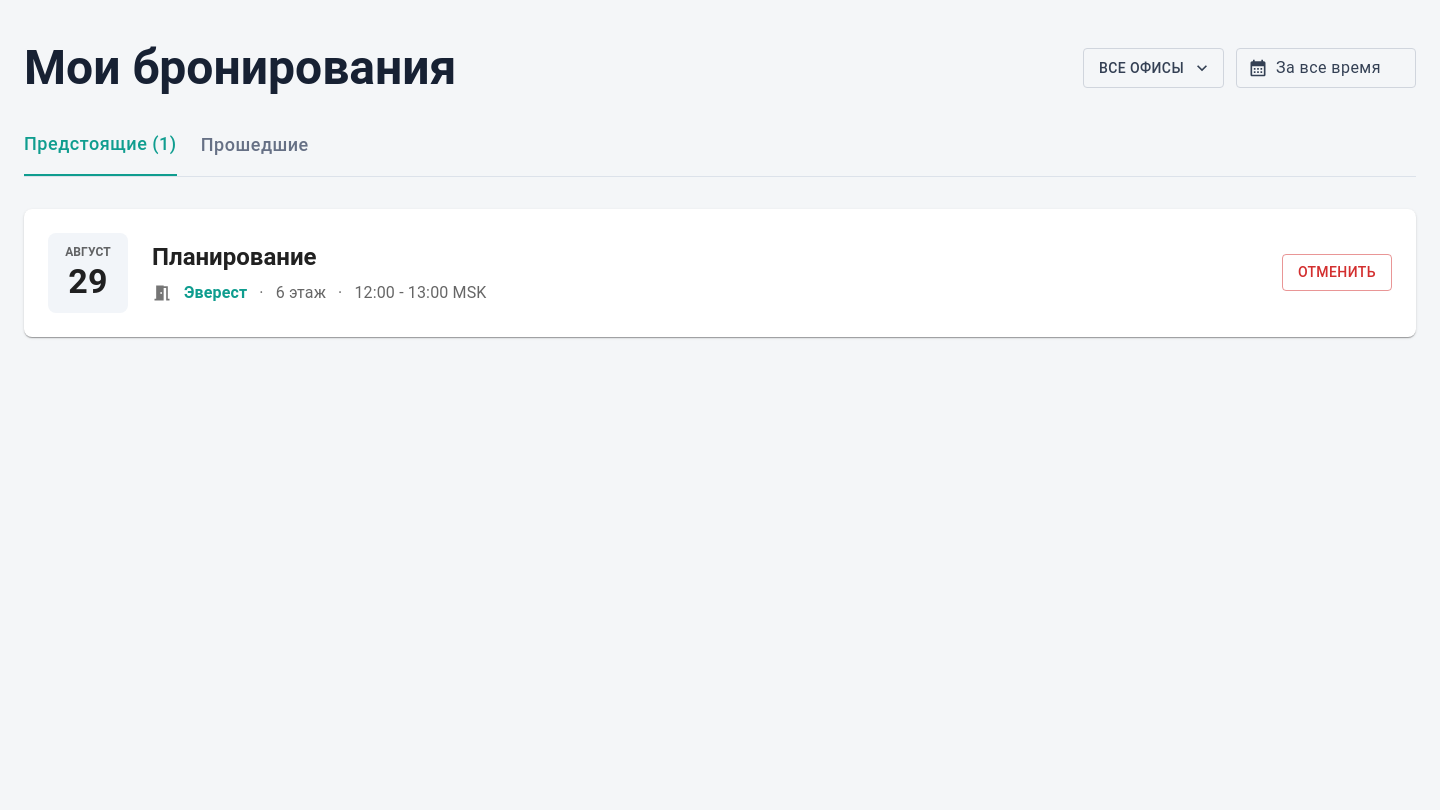
Test: BookingsPage › shows cancel error message
Expected: the heading "Планирование" is shown, [152,242,316,270]
Click the button "Отменить". click: (1337, 273)
box: [1282,254,1392,291]
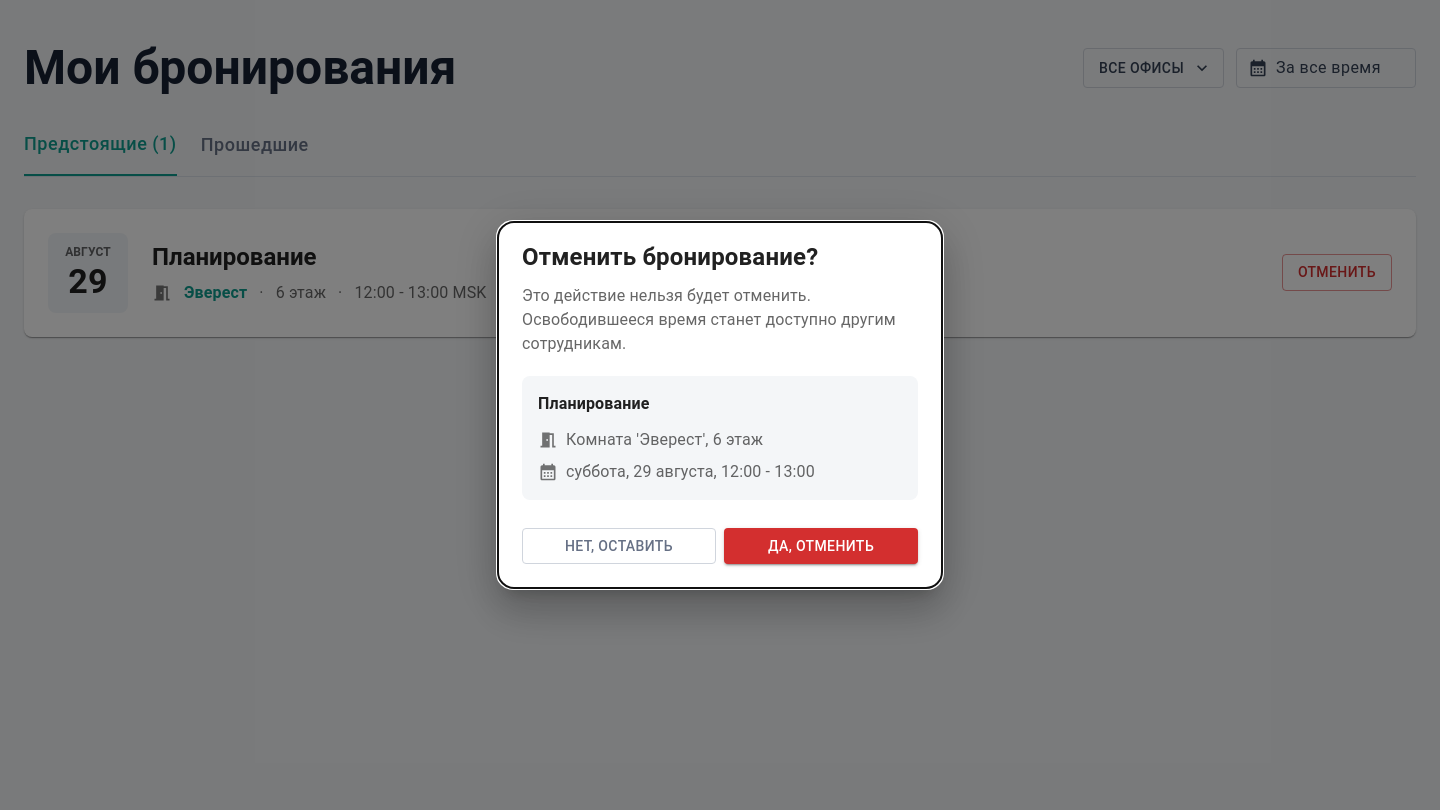
Click the button "Да, отменить". click: (821, 546)
box: [724,528,918,564]
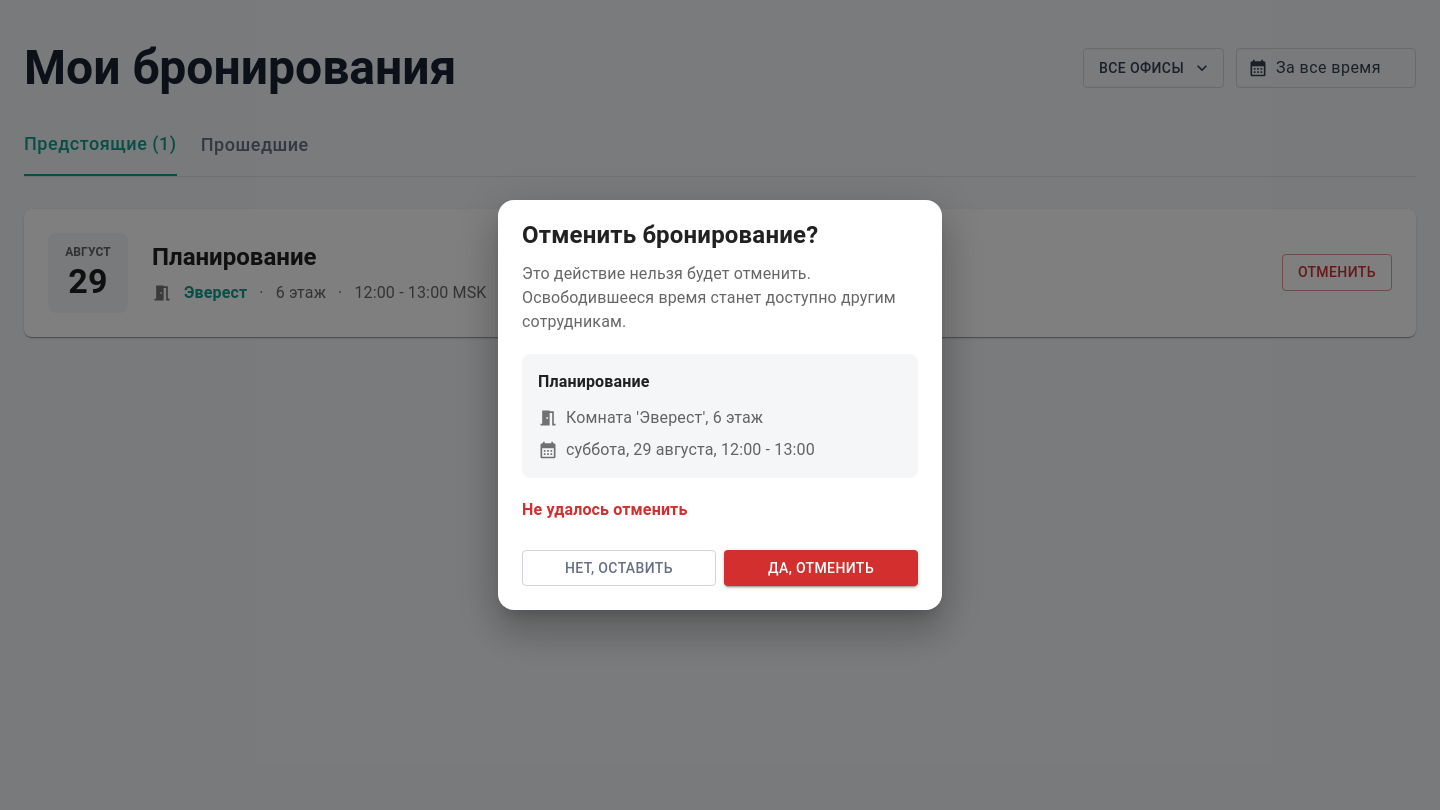
Expected: the text "Не удалось отменить" is shown, [522,500,688,519]
